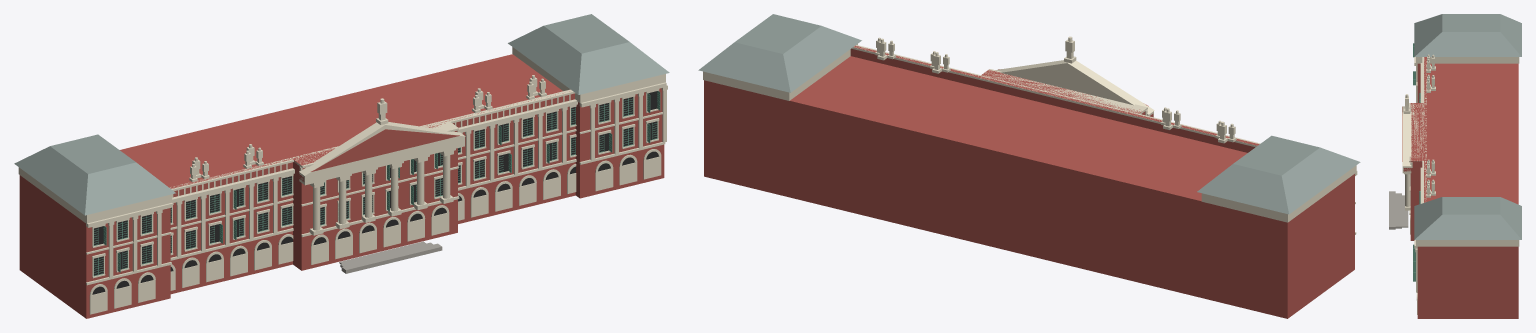
The model's file is kolkata-props.glb.
The picture shows the model from 3 angles, left to right: view 1: azimuth 30°, elevation 25°; view 2: azimuth 150°, elevation 25°; view 3: azimuth 270°, elevation 25°; orthographic projection. The views are drawn at different scales.
Visible parts, largest first — view 1: Writers-style red block.001; view 2: Writers-style red block.001; view 3: Writers-style red block.001.
Boxes of the visible parts, left/top/right/bottom form: Writers-style red block.001: left=14, top=14, right=669, bottom=318; Writers-style red block.001: left=698, top=14, right=1360, bottom=318; Writers-style red block.001: left=1389, top=14, right=1521, bottom=318.
Size of the model in its own units: 97.2 by 24.62 by 25.2.
